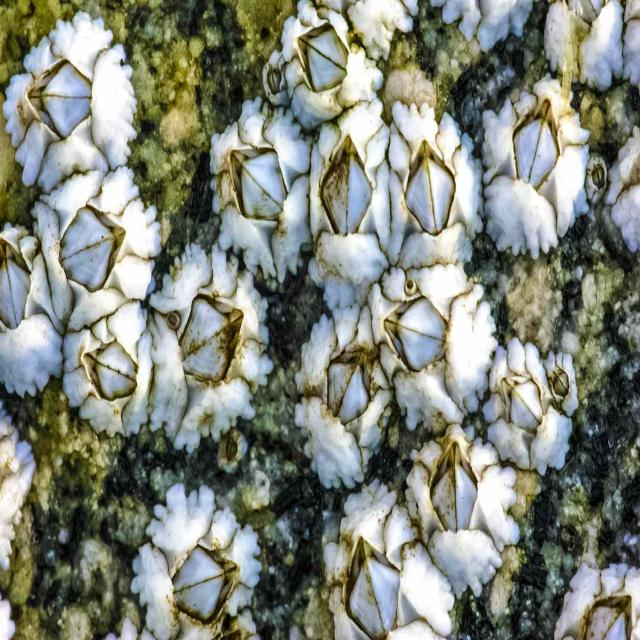barnacles: (316, 486, 460, 636), (4, 19, 135, 171), (144, 266, 262, 433), (139, 495, 268, 639), (298, 298, 394, 491), (372, 270, 492, 424), (379, 105, 486, 273), (34, 172, 156, 310), (485, 94, 587, 258), (202, 126, 312, 274), (414, 426, 518, 571), (308, 110, 388, 290), (58, 302, 151, 430), (0, 222, 60, 406), (487, 334, 567, 466), (289, 7, 374, 122)
